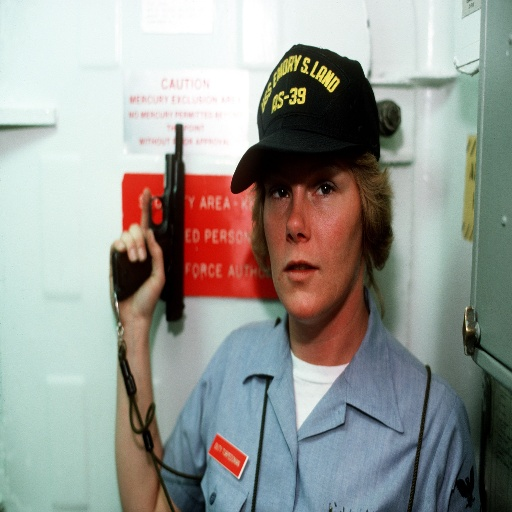hand: (108, 207, 171, 314)
